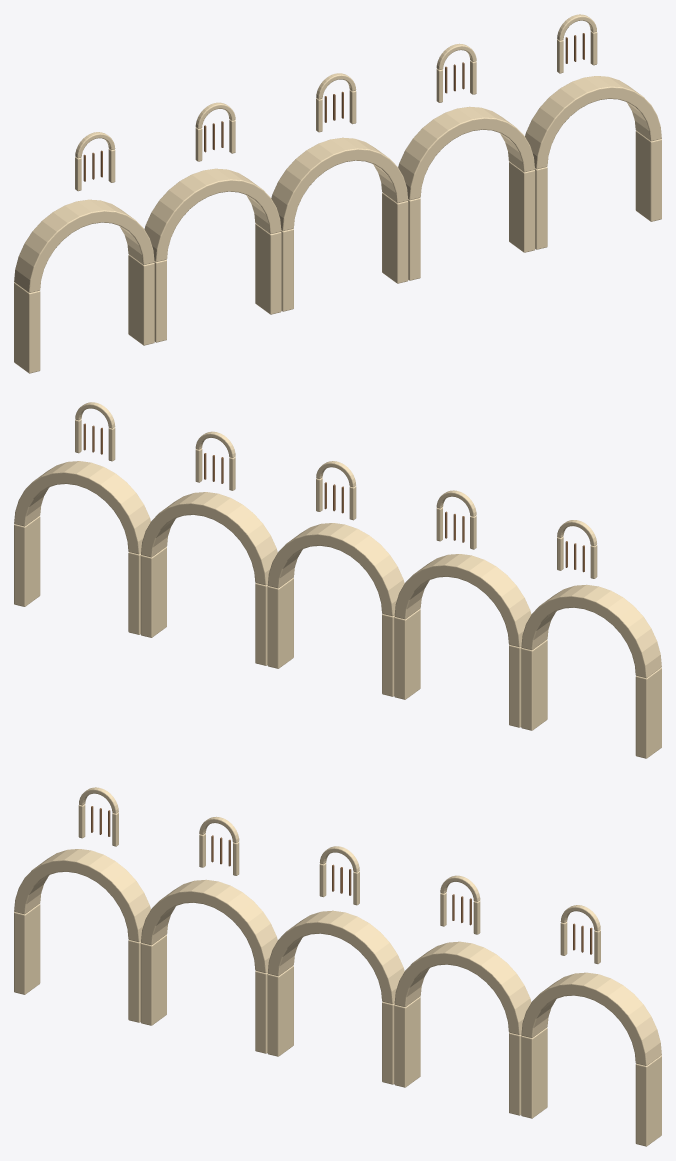
Rendered from SM_CaravanseraiArcades.fbx.
3 views of the same model, one above another, from view 1: azimuth 30°, elevation 25°; view 2: azimuth 150°, elevation 25°; view 3: azimuth 330°, elevation 25° (orthographic).
Visible parts, largest first — view 1: SM_CaravanseraiArcades_Export; view 2: SM_CaravanseraiArcades_Export; view 3: SM_CaravanseraiArcades_Export.
Part boxes in pixels (bbox=[...]): SM_CaravanseraiArcades_Export: bbox=[14, 14, 661, 373]; SM_CaravanseraiArcades_Export: bbox=[14, 402, 661, 758]; SM_CaravanseraiArcades_Export: bbox=[14, 787, 661, 1146].
Bounding box in the file's own units: 1997 × 85 × 649.
